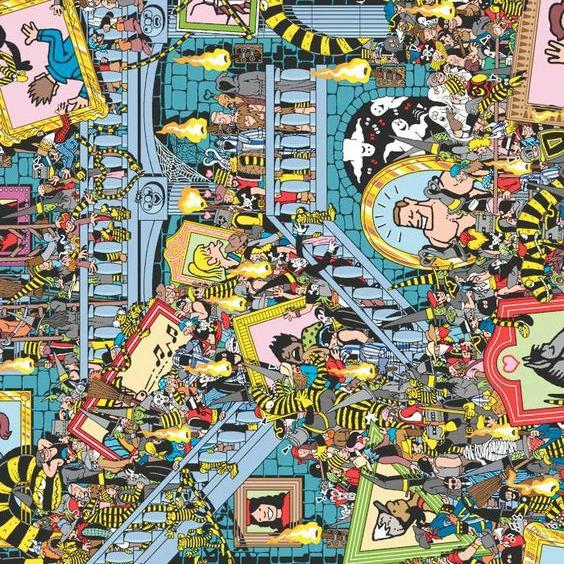waldos: (64, 438, 94, 459)
